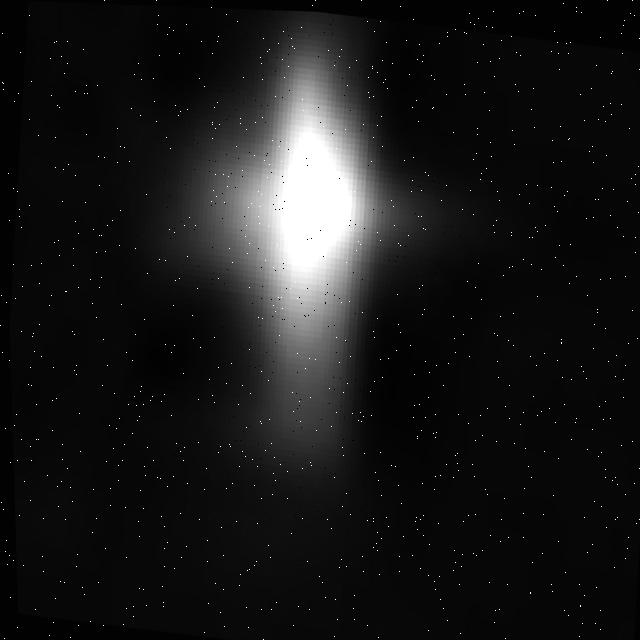person: (143, 5, 442, 497)
